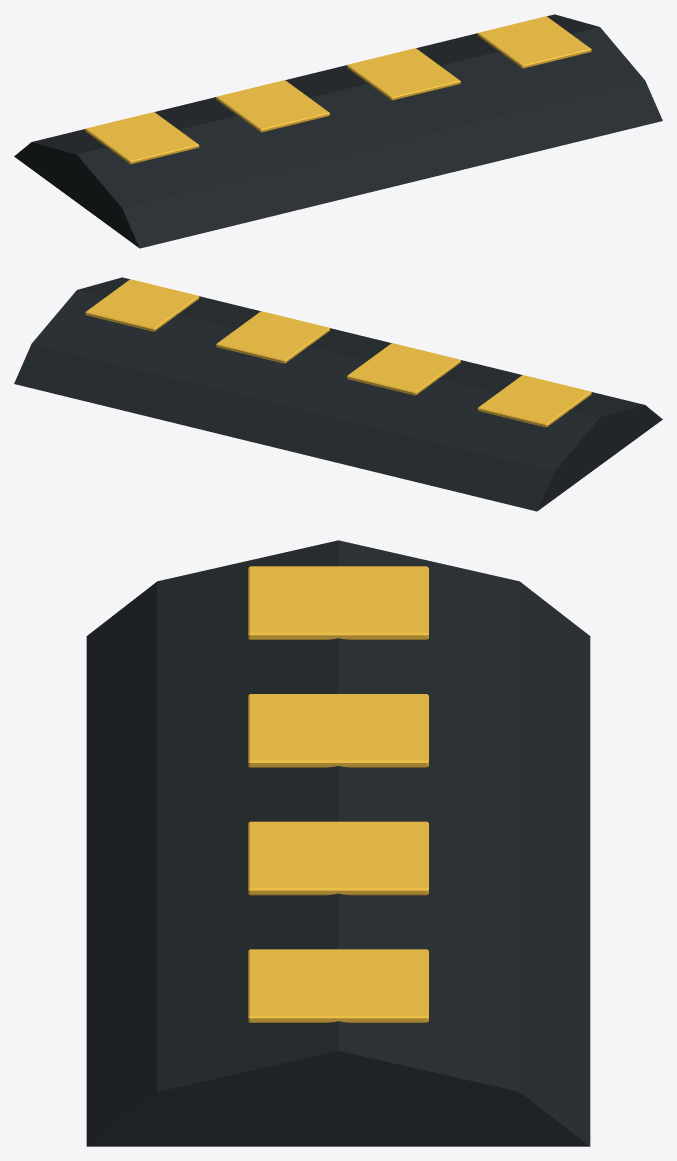
File: Speed_Bump_Segment.glb
3 renders of one model, top to bottom at view 1: azimuth 30°, elevation 25°; view 2: azimuth 150°, elevation 25°; view 3: azimuth 270°, elevation 25°, orthographic. The views are drawn at different scales.
Parts seen in each view (by area): view 1: Speed_Bump_Segment; view 2: Speed_Bump_Segment; view 3: Speed_Bump_Segment.
Boxes of the visible parts, x1=… form: Speed_Bump_Segment: x1=14, y1=14, x2=662, y2=248; Speed_Bump_Segment: x1=14, y1=277, x2=662, y2=511; Speed_Bump_Segment: x1=86, y1=540, x2=590, y2=1146.
Bounding box in the file's own units: 1.2 × 0.11 × 0.5.
